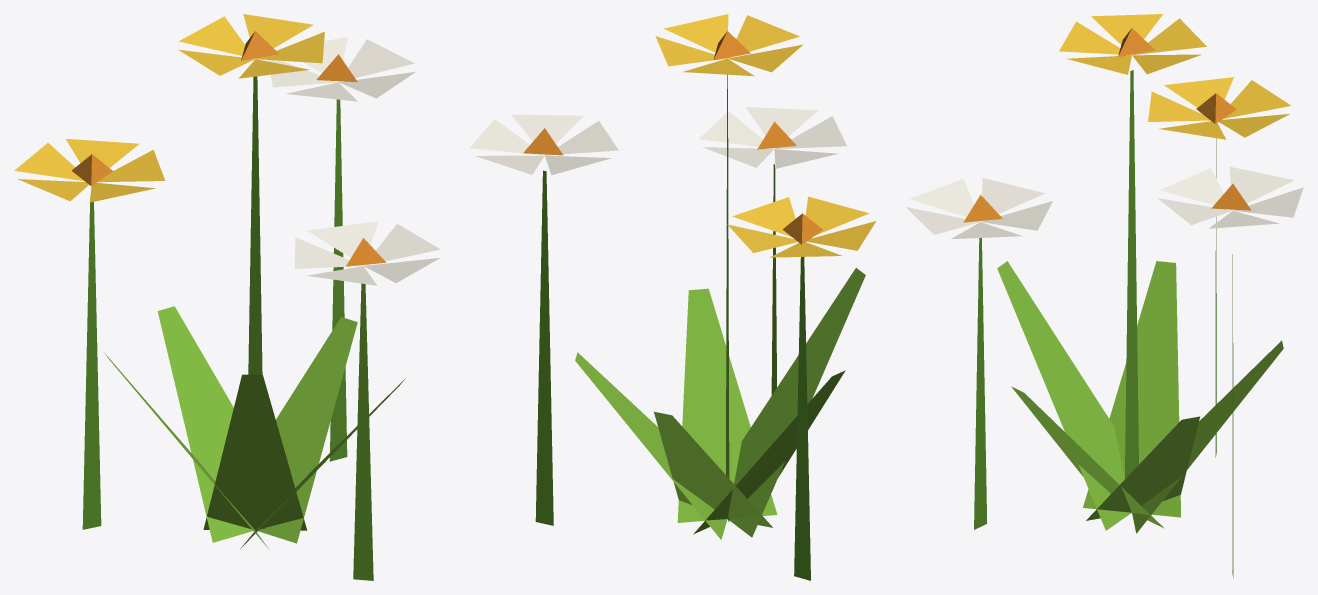
The model's file is detail_flower_patch.glb.
The picture shows the model from 3 angles, left to right: view 1: azimuth 30°, elevation 25°; view 2: azimuth 150°, elevation 25°; view 3: azimuth 270°, elevation 25°; orthographic projection. The views are drawn at different scales.
Parts seen in each view (by area): view 1: detail.flower_patch; view 2: detail.flower_patch; view 3: detail.flower_patch.
Part boxes in pixels (<box>): detail.flower_patch: <box>14,14,440,580</box>; detail.flower_patch: <box>470,14,876,580</box>; detail.flower_patch: <box>906,14,1303,578</box>.
Bounding box in the file's own units: 0.2563 × 0.318 × 0.2369.
